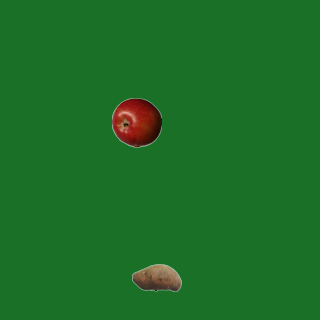Apple Braeburn: (111, 97, 161, 147)
Potato Sweet: (131, 252, 181, 302)
